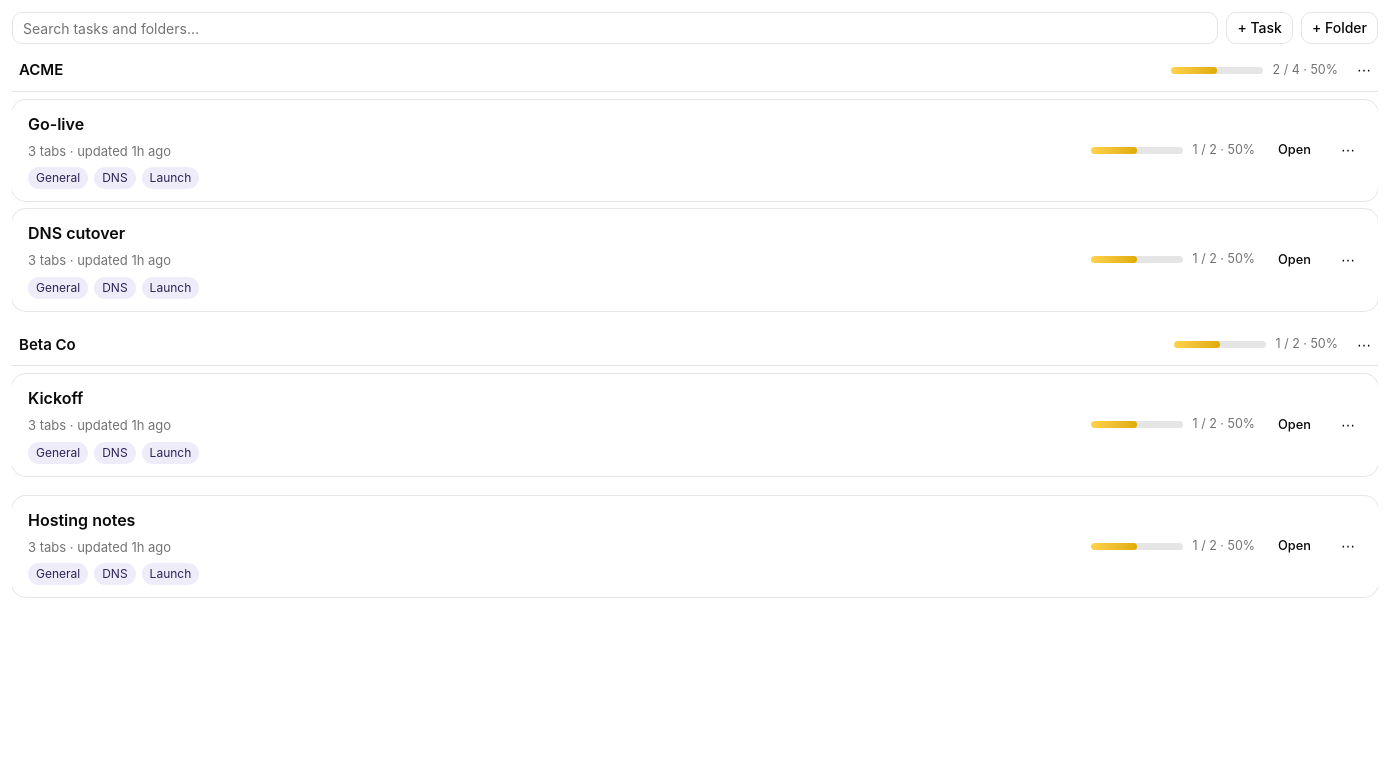
Test: TaskTree › says so when nothing matches
Type "zzz" into the search field at (615, 28), box [12,12,1218,44]
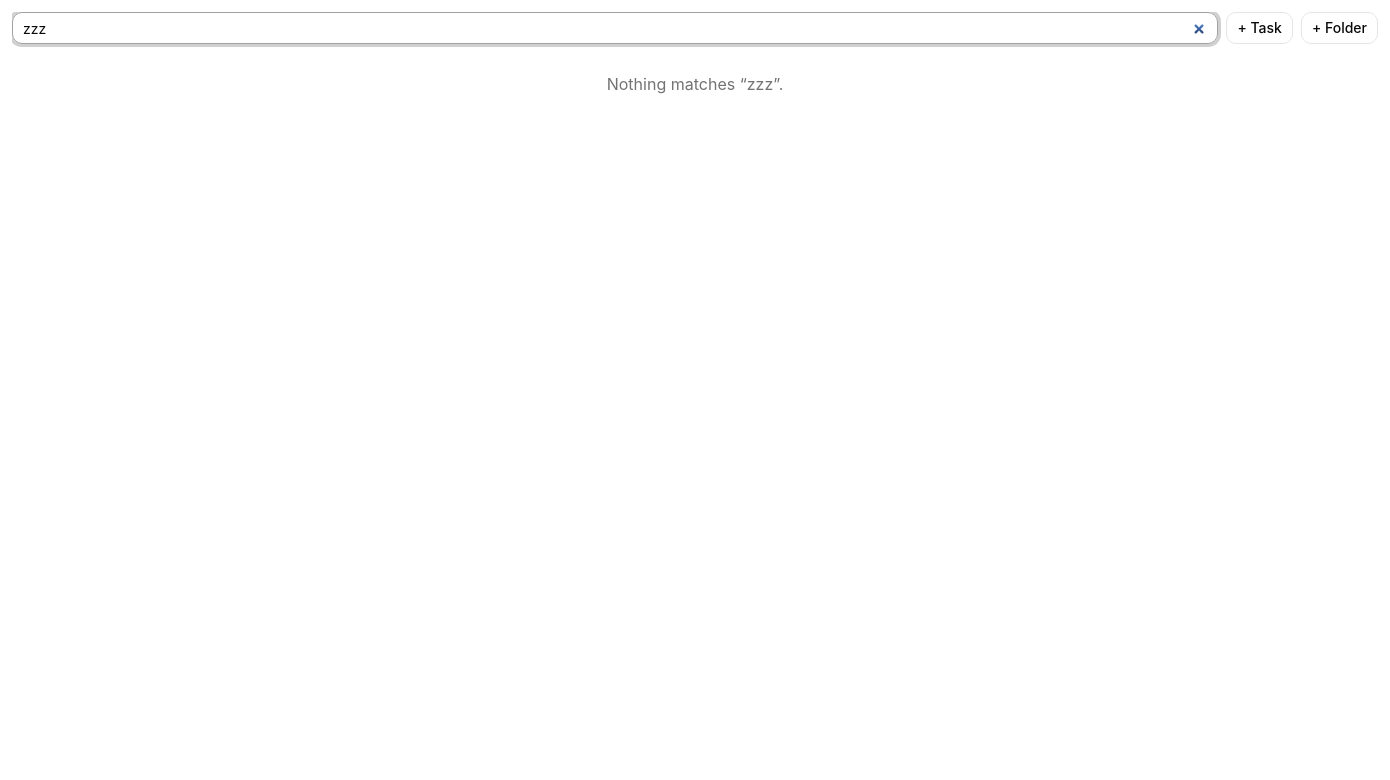
Result: the text "Nothing matches “zzz”." is shown at [607,74,783,94]
